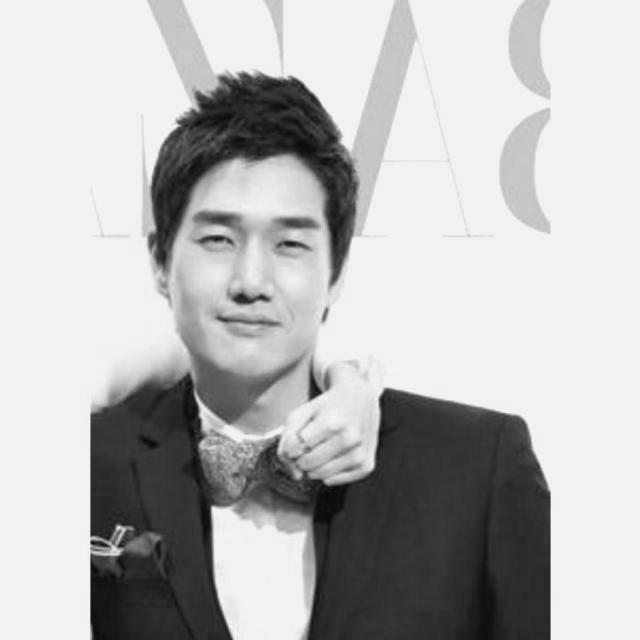real: (158, 128, 352, 392)
